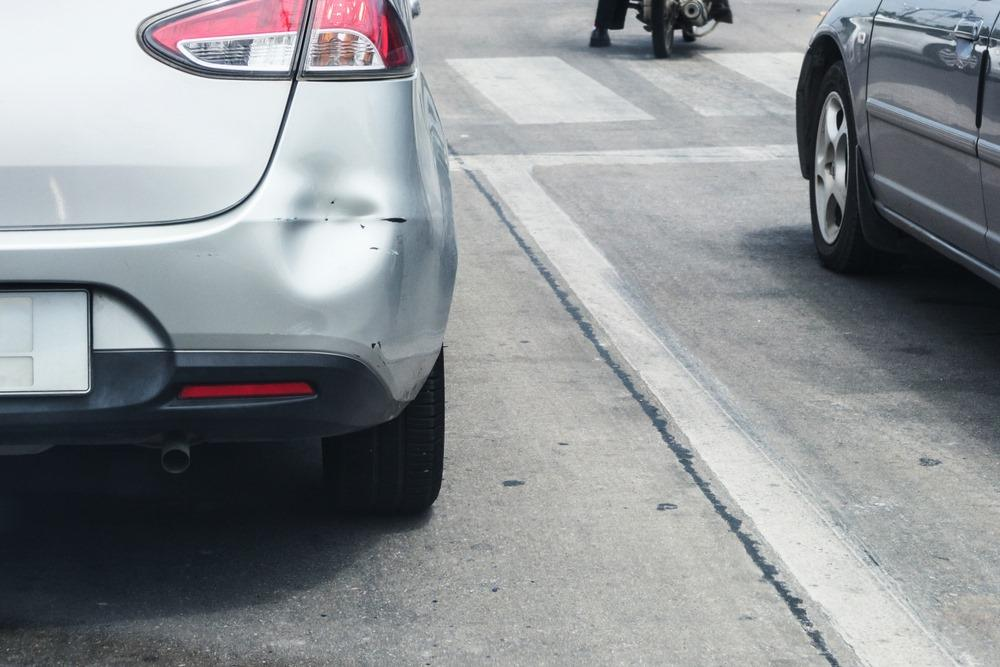dent: (277, 152, 390, 299)
